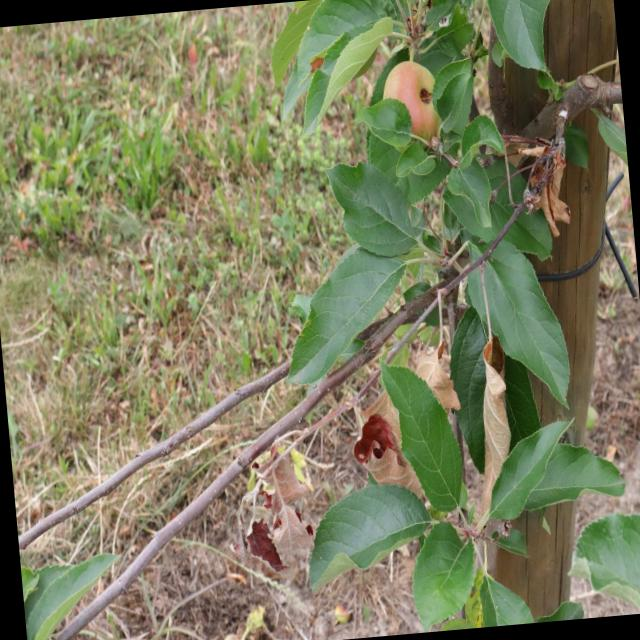-FireBlight-: (340, 380, 442, 511), (250, 447, 323, 586), (473, 326, 518, 540), (408, 336, 466, 423), (523, 140, 573, 228)
